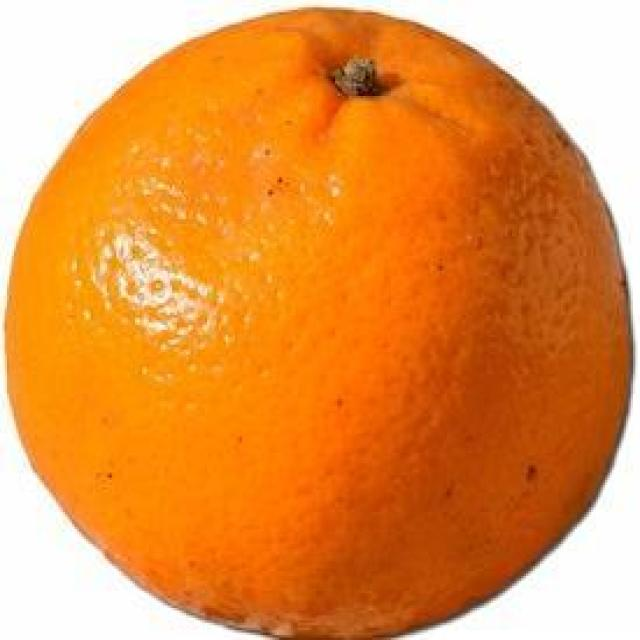orange: (7, 10, 636, 634)
